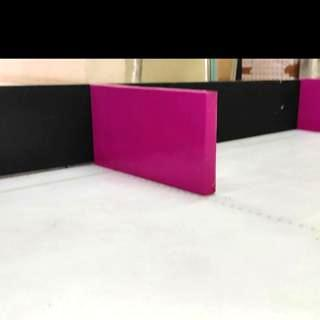xparking: (93, 95, 215, 183), (302, 80, 318, 132)
